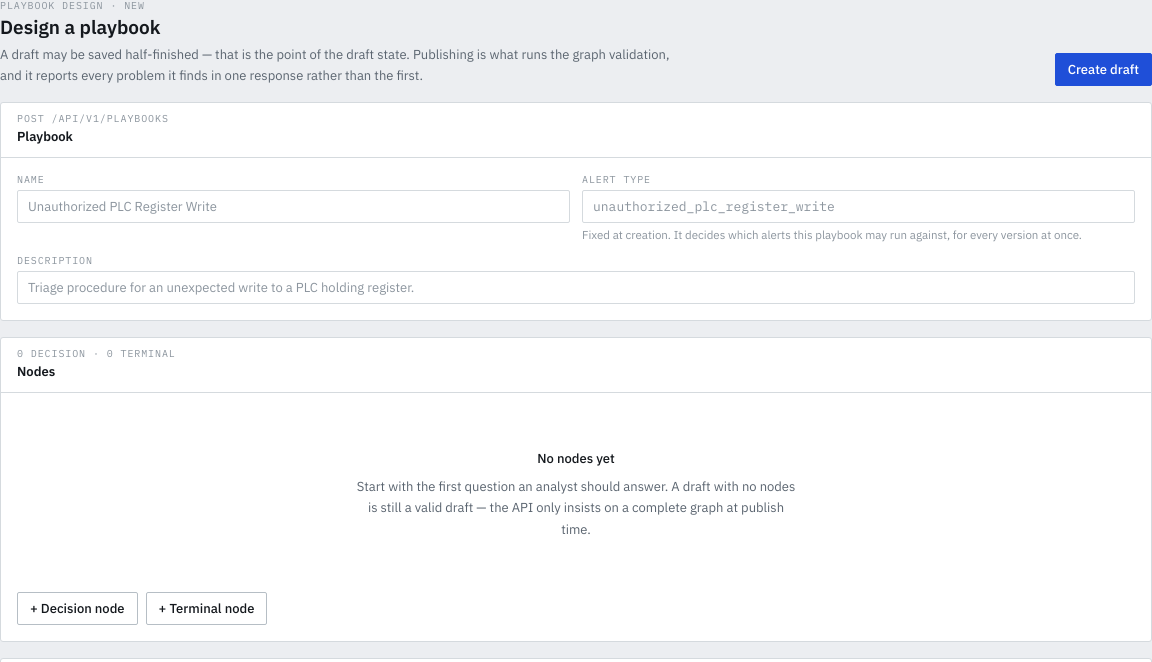
Test case: PlaybookEditorScreen stale validation errors › drops a draft graph error as soon as the draft changes
Type "Playbook" into the field labelled "Name". click: (294, 206)
box: [17,190,570,223]
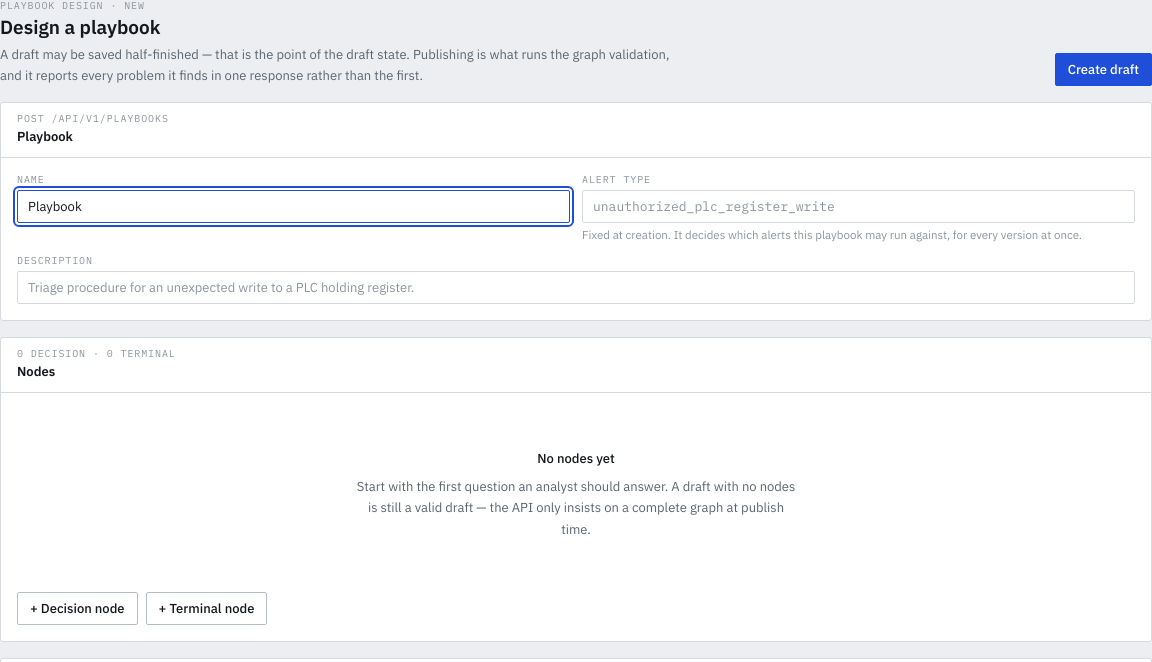
Type "some_alert" into the field labelled "Alert type". click: (858, 206)
box: [582,190,1135,223]
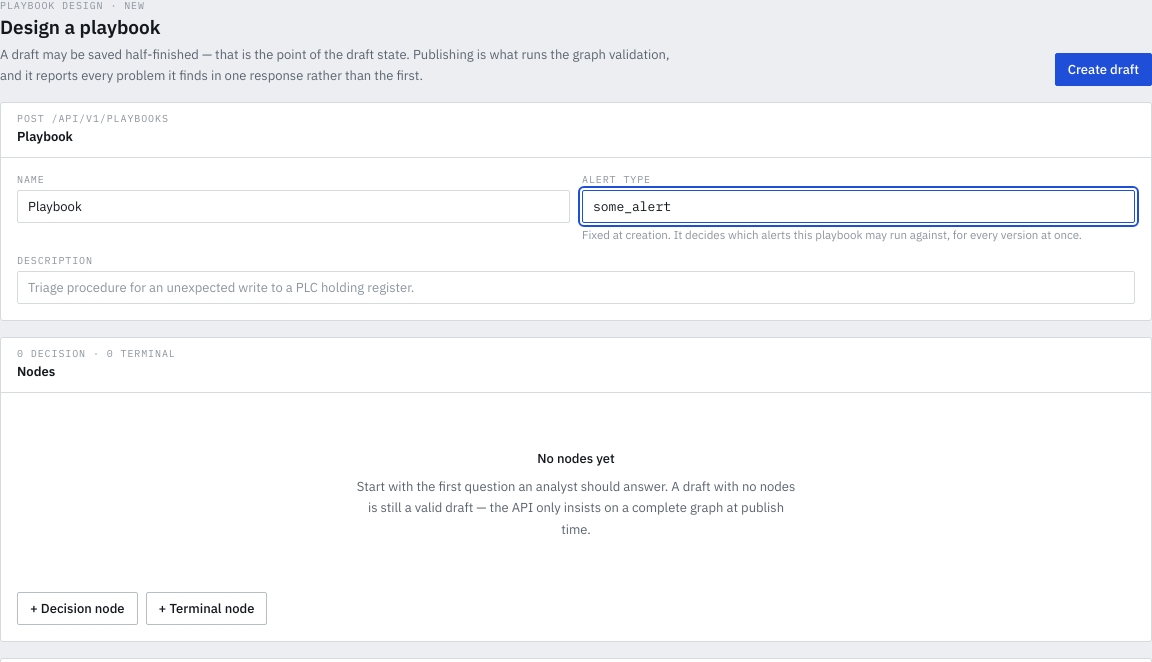
Click the button "+ Decision node". click: (77, 608)
box: [17,592,138,625]
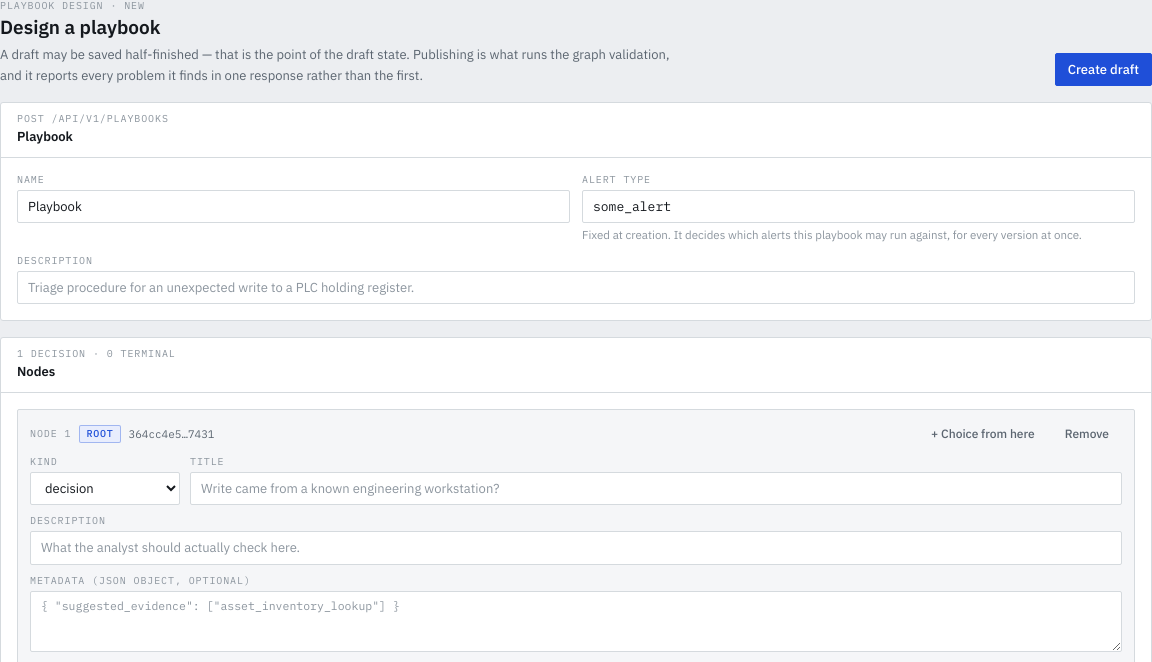
Click the button "Create draft". click: (1103, 69)
box: [1055,52,1151,86]
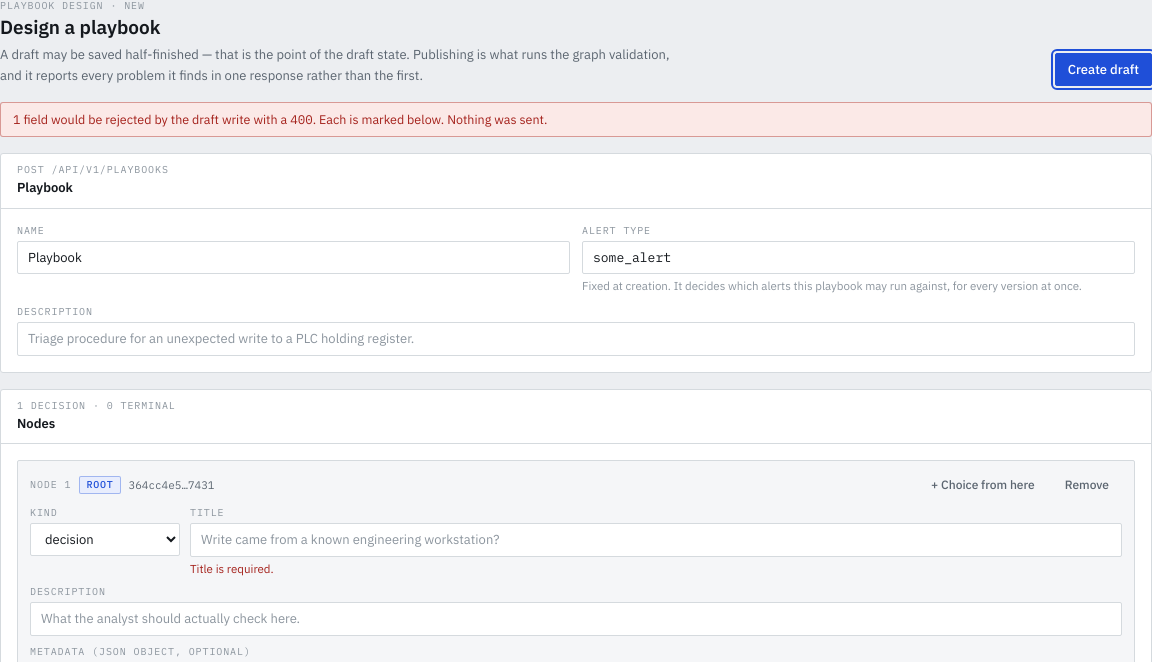
Check: the text "Title is required." is shown, box [190,560,274,576]
Type "Known workstation?" into the field labelled "Title". click: (656, 540)
box: [190,523,1122,556]
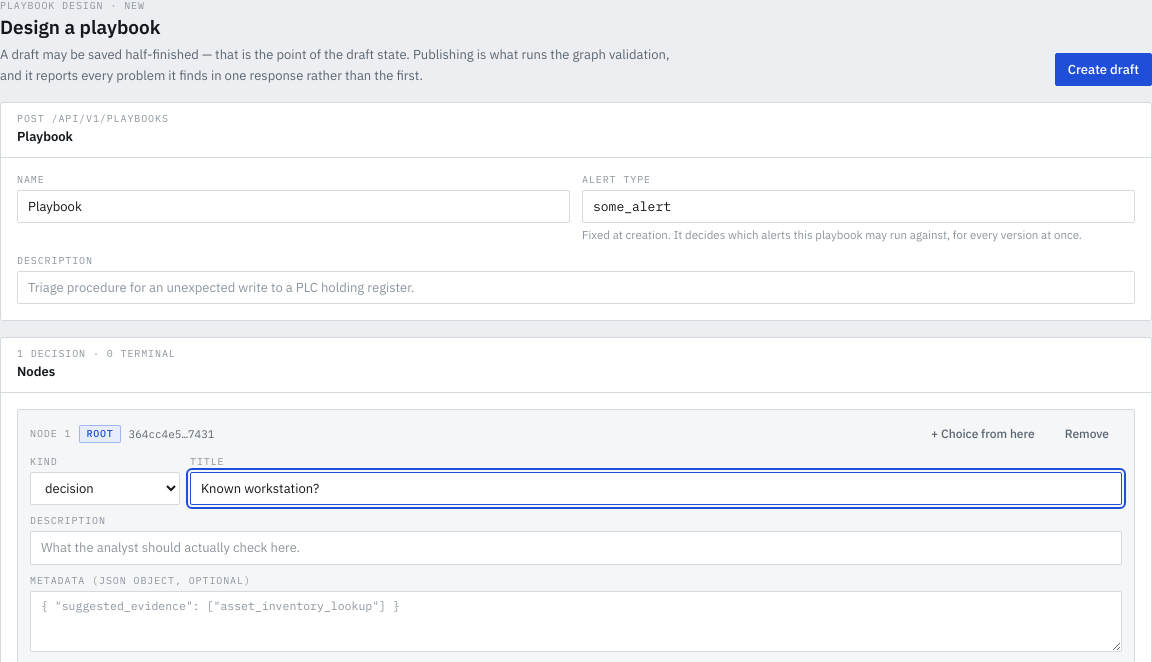
Check: the text "Title is required." is gone
Check: the text "would be rejected by the draft write" is gone
